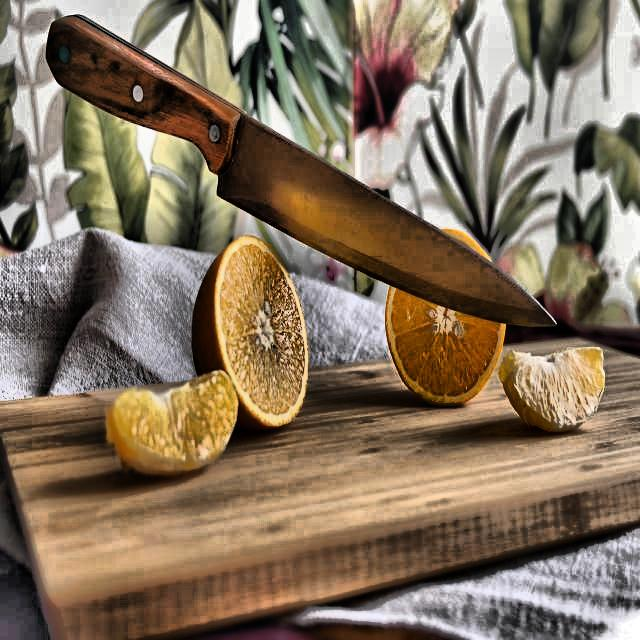knife: (45, 15, 565, 341)
